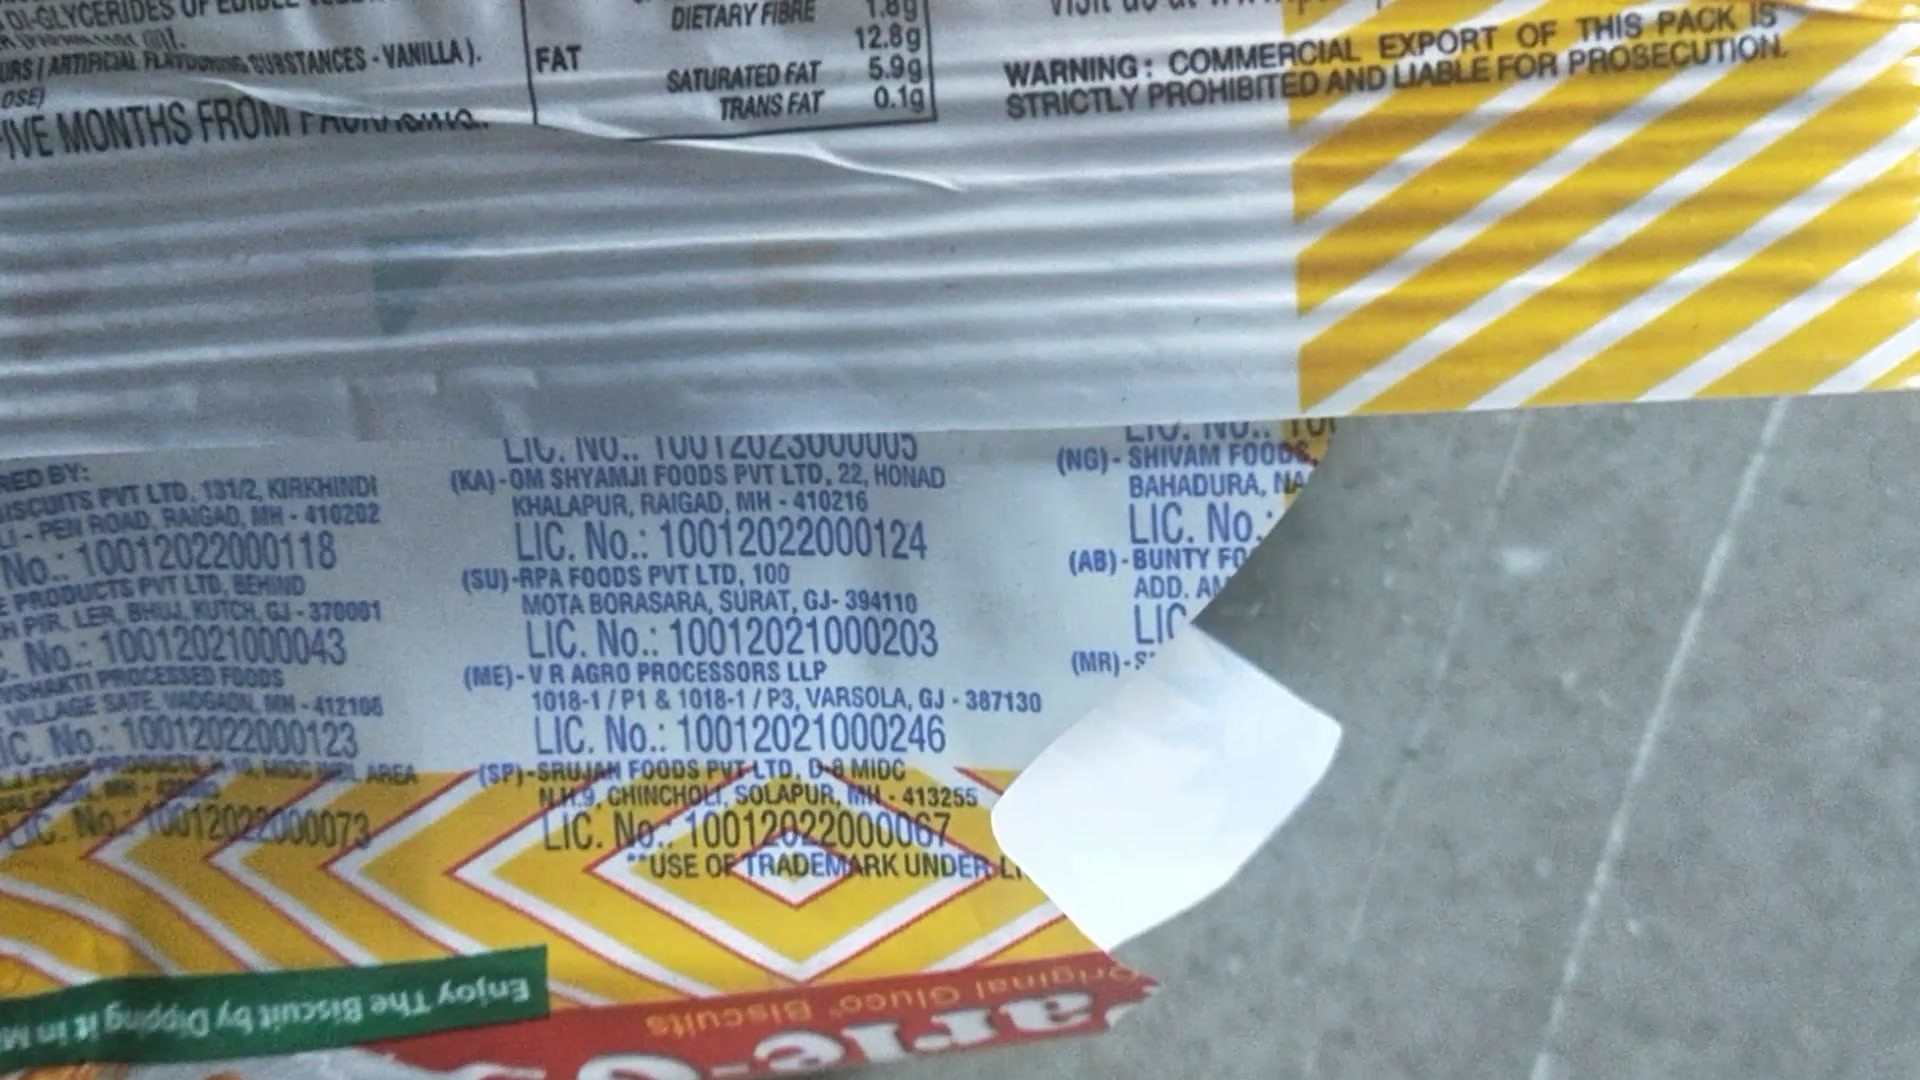parle-g-b: (3, 7, 1411, 1040)
